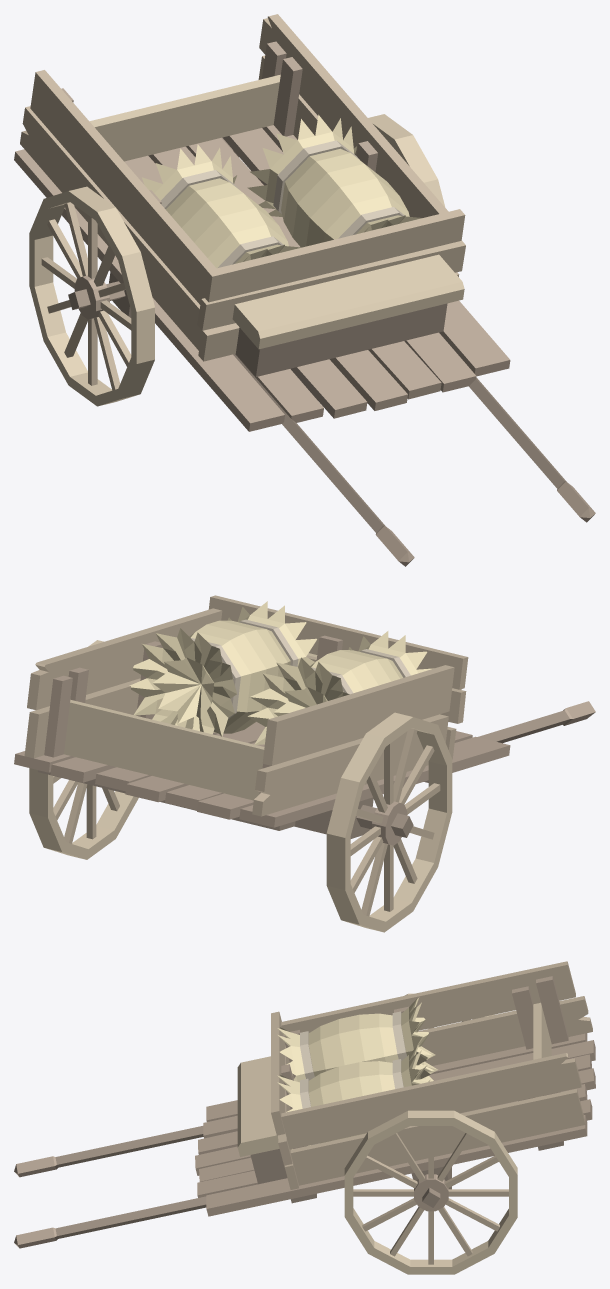
File: carretilla3.glb
The picture shows the model from 3 angles, top to bottom: view 1: azimuth 30°, elevation 25°; view 2: azimuth 150°, elevation 25°; view 3: azimuth 270°, elevation 25°; orthographic projection. The views are drawn at different scales.
Visible parts, largest first — view 1: object12, object39, object23, object1, object38, object19, object32, object17, object9, object6, object20, object5 (+12 smaller); view 2: object39, object32, object23, object1, object38, object6, object20, object17, object21, object19, object9, object26 (+15 smaller); view 3: object17, object26, object38, object21, object1, object7, object8, object20, object39, object12, object25, object28 (+11 smaller).
Part boxes in pixels (bbox=[...]): object12: bbox=[232, 254, 464, 376]; object39: bbox=[247, 114, 422, 247]; object23: bbox=[29, 186, 154, 406]; object1: bbox=[30, 70, 216, 304]; object38: bbox=[142, 144, 301, 268]; object19: bbox=[203, 209, 465, 302]; object32: bbox=[89, 74, 280, 161]; object17: bbox=[259, 14, 448, 217]; object9: bbox=[14, 149, 284, 431]; object6: bbox=[41, 202, 131, 390]; object20: bbox=[20, 106, 201, 350]; object5: bbox=[186, 138, 441, 399]; object39: bbox=[129, 601, 316, 736]; object32: bbox=[64, 699, 264, 800]; object23: bbox=[326, 712, 452, 932]; object1: bbox=[262, 665, 454, 765]; object38: bbox=[247, 631, 440, 744]; object6: bbox=[350, 728, 440, 916]; object20: bbox=[252, 714, 448, 816]; object17: bbox=[27, 608, 222, 710]; object21: bbox=[29, 640, 138, 859]; object19: bbox=[208, 595, 468, 689]; object9: bbox=[239, 736, 510, 827]; object26: bbox=[24, 678, 140, 758]; object17: bbox=[281, 1053, 581, 1149]; object26: bbox=[290, 1089, 585, 1185]; object38: bbox=[277, 997, 437, 1082]; object21: bbox=[344, 1110, 517, 1274]; object1: bbox=[281, 961, 575, 1032]; object7: bbox=[353, 1126, 508, 1264]; object8: bbox=[206, 1115, 587, 1216]; object20: bbox=[418, 996, 592, 1065]; object39: bbox=[277, 1044, 430, 1149]; object12: bbox=[237, 1056, 287, 1184]; object25: bbox=[14, 1196, 206, 1248]; object28: bbox=[14, 1126, 203, 1177].
Bounding box in the file's own units: 1.8 × 1.3 × 3.36.
